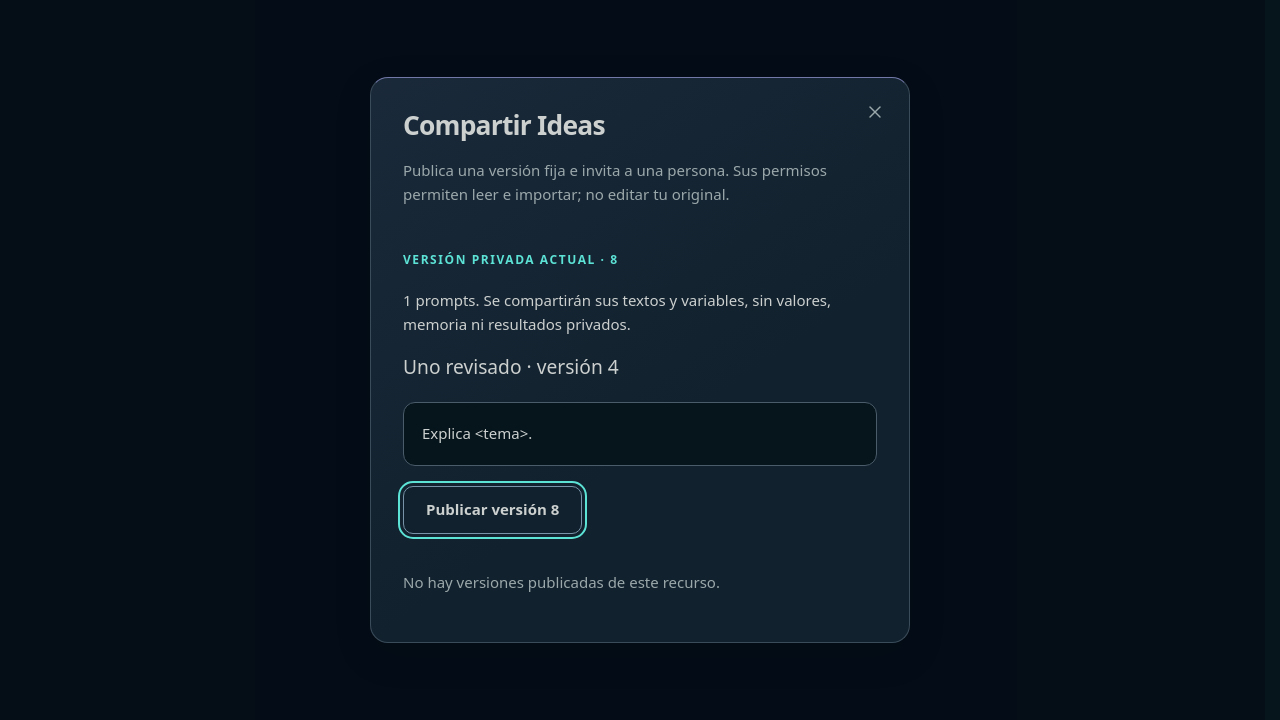
Test: reviews collection member revisions and reuses publication controls without inviting anyone implicitly
Check: the heading "Uno revisado · versión 4" is shown, box [403, 352, 619, 380]
Click the button "Publicar versión 8" at [493, 510], box [403, 486, 582, 534]
(page scrolled)
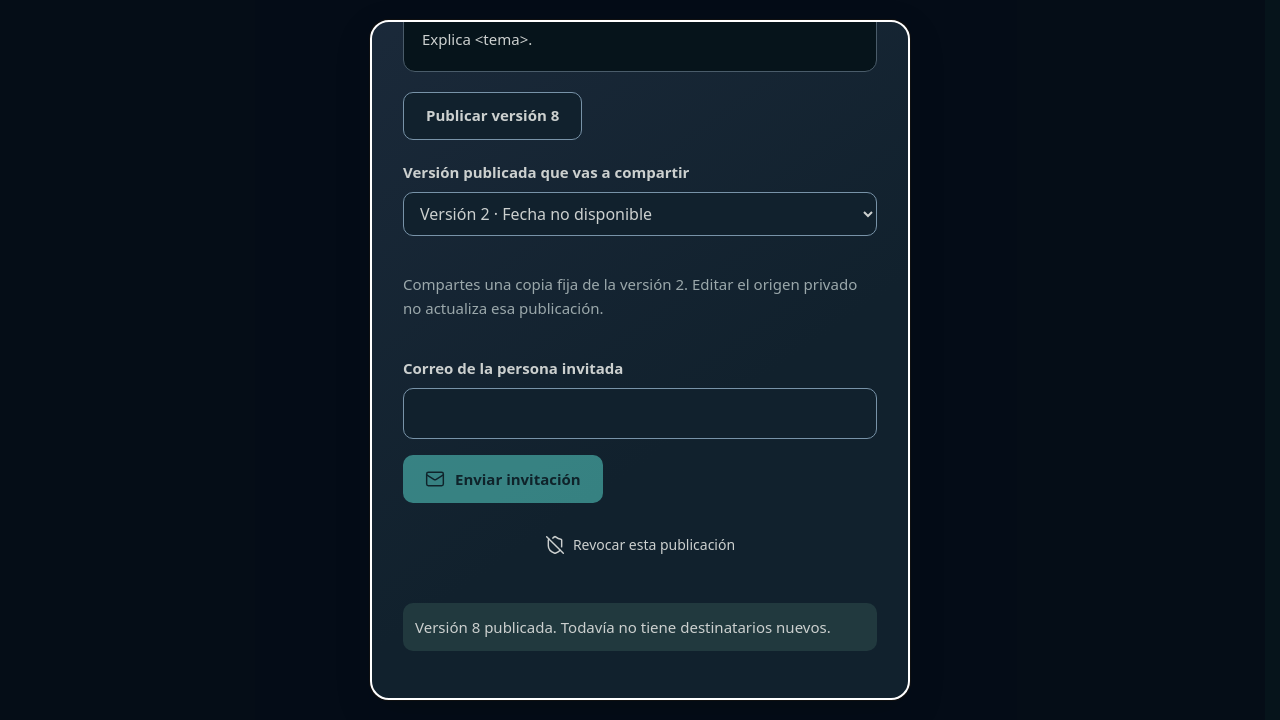
Check: the field labelled "Correo de la persona invitada" is shown, box [403, 388, 877, 439]
